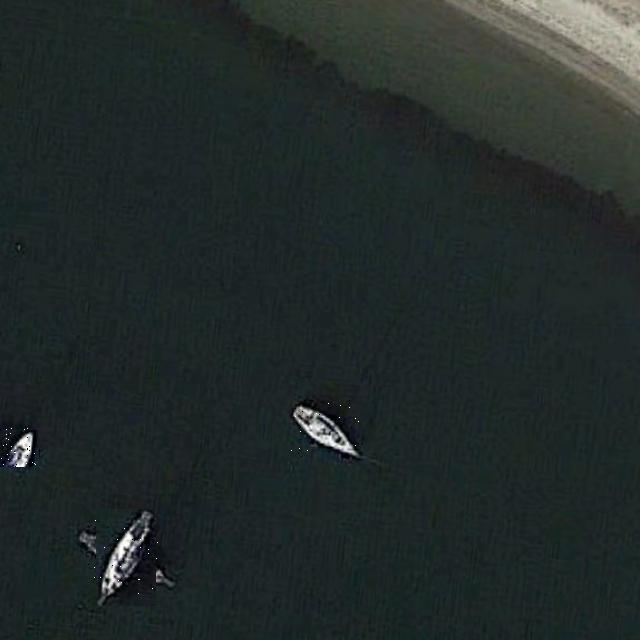boat: (86, 518, 165, 597), (289, 400, 362, 461), (0, 428, 38, 467)
